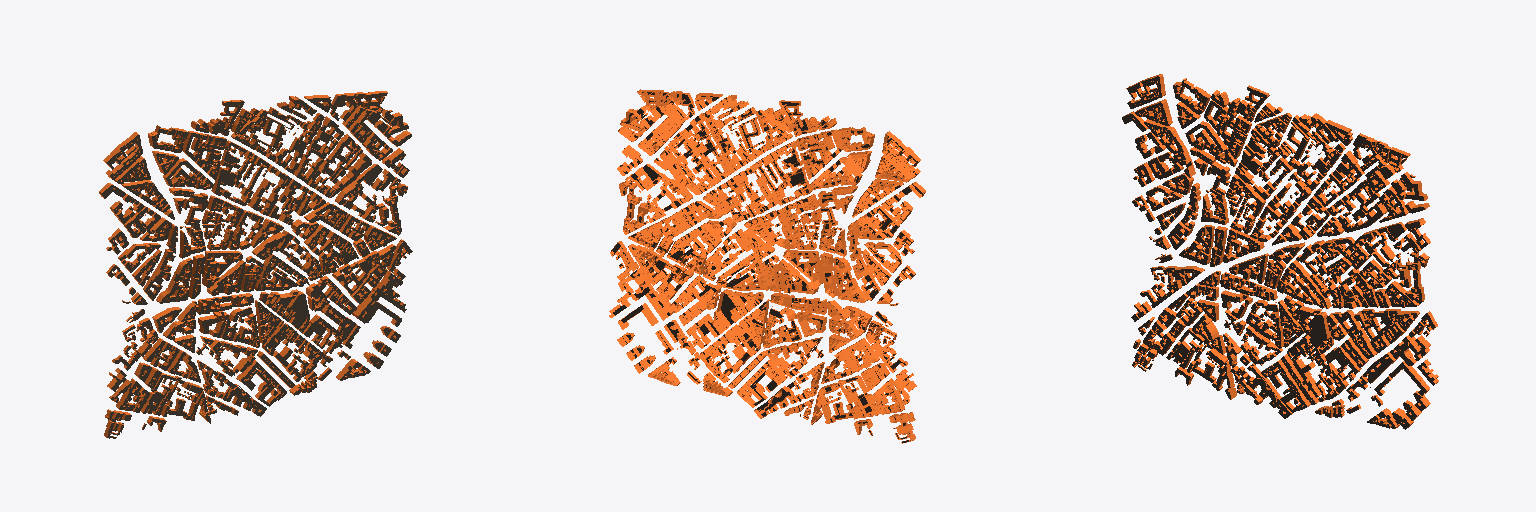
The model's file is buildings.obj.
3 renders of one model, left to right at view 1: azimuth 30°, elevation 25°; view 2: azimuth 150°, elevation 25°; view 3: azimuth 330°, elevation 25°, orthographic.
Parts seen in each view (by area): view 1: map_21.osm_buildings; view 2: map_21.osm_buildings; view 3: map_21.osm_buildings.
Boxes of the visible parts, x1=… form: map_21.osm_buildings: x1=99, y1=91, x2=412, y2=438; map_21.osm_buildings: x1=609, y1=89, x2=925, y2=443; map_21.osm_buildings: x1=1122, y1=74, x2=1438, y2=429.
Bounding box in the file's own units: 1100 × 1089 × 76.25.